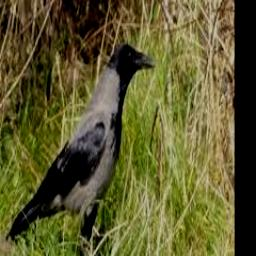Crow: (5, 44, 156, 256)
